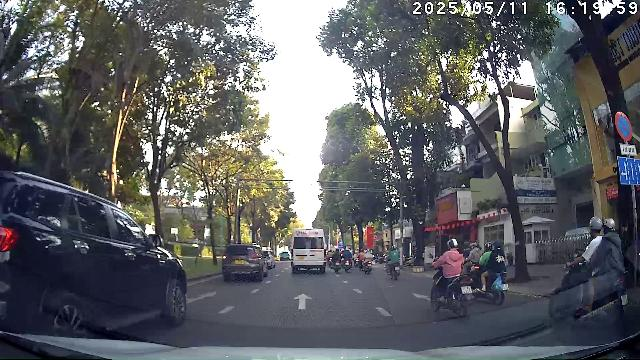131a-cam-do-xe: (616, 111, 632, 141)
